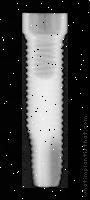Neoss: (18, 13, 68, 188)
